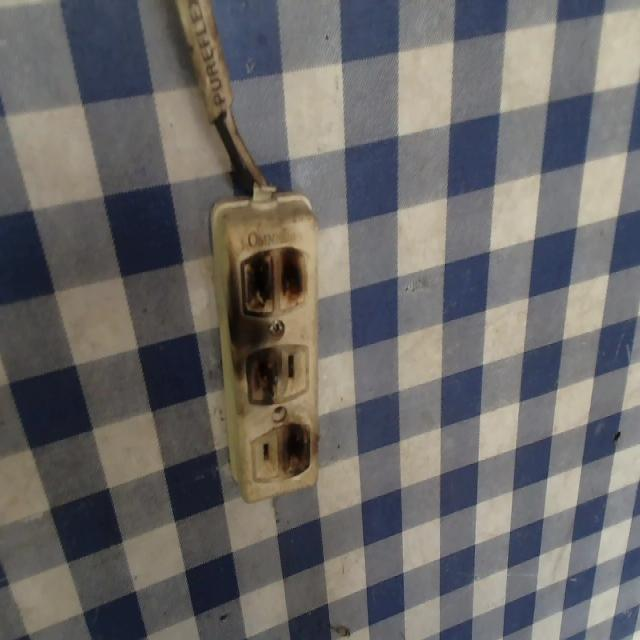-: (233, 240, 325, 316), (236, 339, 289, 412), (276, 413, 321, 478)
